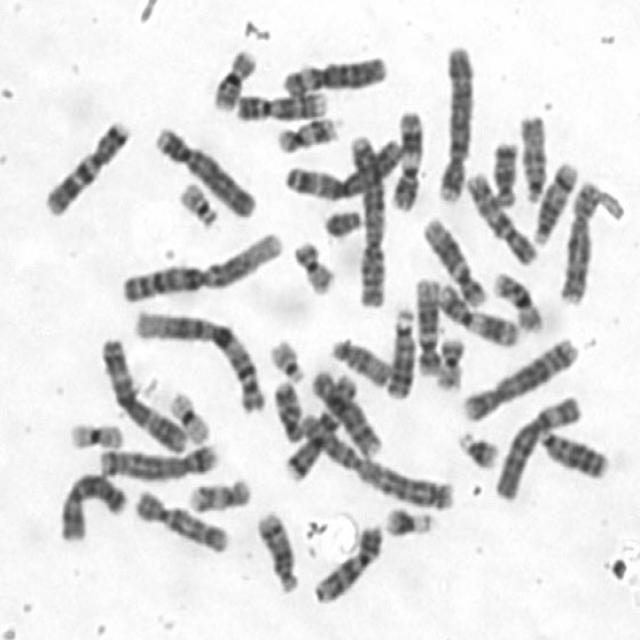A1: (130, 306, 266, 415), (117, 228, 286, 304)
A2: (289, 408, 457, 511), (344, 129, 388, 309)
A3: (98, 332, 188, 453), (280, 134, 404, 201)
B4: (150, 121, 258, 221), (437, 44, 477, 207)
B5: (459, 333, 580, 423), (95, 439, 219, 482)
C10: (462, 169, 539, 267), (130, 484, 232, 556)
C11: (434, 280, 520, 348), (388, 106, 424, 215)
C12: (420, 213, 487, 309), (412, 274, 442, 377)
C6: (491, 389, 583, 502), (277, 50, 389, 100)
C7: (38, 114, 133, 220), (282, 369, 358, 483)
C8: (309, 366, 384, 458), (555, 181, 605, 301)
C9: (308, 518, 386, 606), (233, 86, 329, 124)
D13: (536, 424, 609, 480), (382, 304, 416, 401)
D14: (529, 157, 579, 246), (253, 508, 300, 595)
D15: (328, 334, 392, 388), (516, 110, 548, 204)
E16: (490, 269, 545, 334), (208, 44, 258, 113)
E17: (273, 111, 343, 156), (185, 475, 252, 515)
E18: (269, 375, 304, 442), (488, 137, 520, 208)
F19: (165, 387, 211, 446), (64, 418, 125, 451)
F20: (289, 237, 336, 297), (431, 333, 467, 391)
G21: (454, 427, 500, 471), (382, 503, 436, 539)
G22: (176, 177, 220, 229), (266, 336, 306, 384)
X: (55, 467, 129, 544)
Y: (320, 206, 362, 240)
